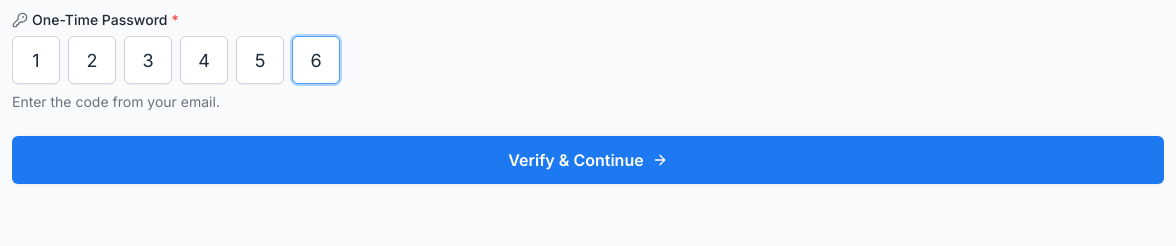
Test: OtpForm › announces a verification failure through an alert region
Check: the number of fields is 6, box [12, 36, 60, 84]; [68, 36, 116, 84]; [124, 36, 172, 84]; [180, 36, 228, 84]; [236, 36, 284, 84]; [292, 36, 340, 84]
Click the button "Verify & Continue" at (588, 160), box [12, 136, 1164, 184]
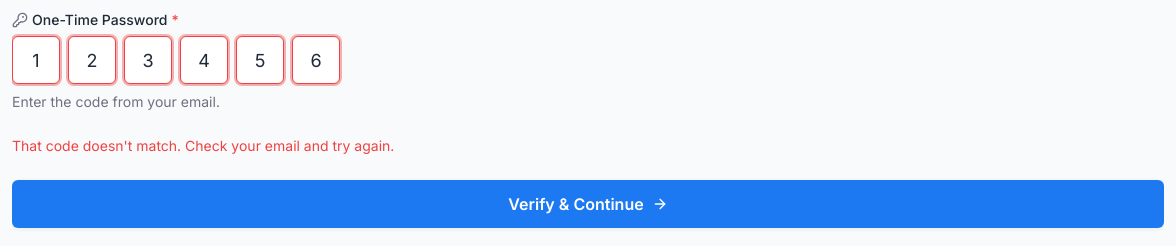
Check: the message shows "That code doesn't match", box [12, 137, 394, 154]
